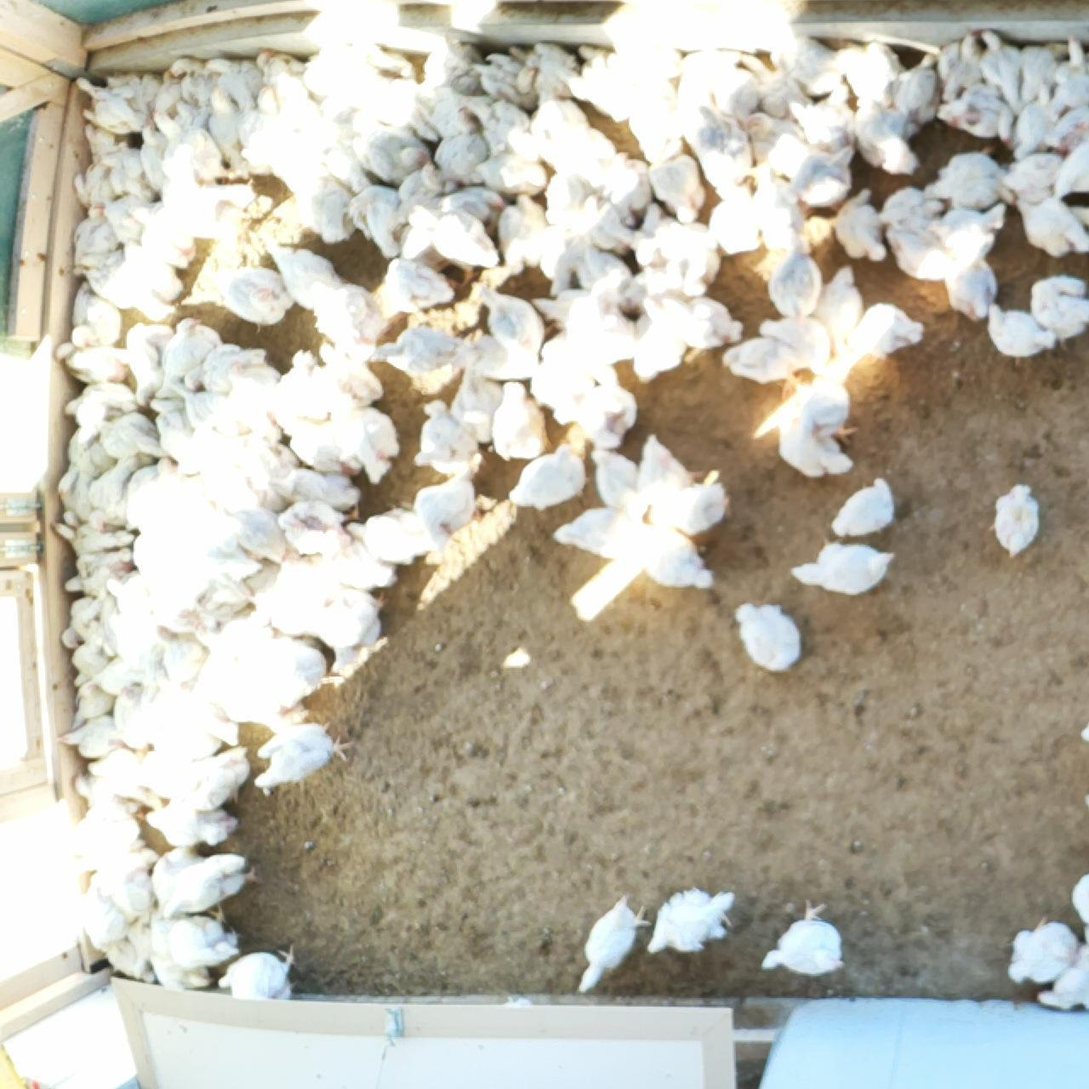chicken: (573, 894, 656, 998), (250, 715, 357, 791), (157, 851, 258, 928), (310, 583, 391, 678), (758, 895, 847, 980), (643, 882, 739, 959), (404, 201, 500, 270), (678, 103, 756, 187), (251, 561, 336, 638), (640, 289, 743, 352), (718, 331, 808, 403), (790, 540, 898, 599), (187, 426, 261, 512), (168, 174, 262, 241), (370, 320, 473, 380), (411, 395, 485, 477), (630, 519, 713, 592), (168, 741, 253, 812), (478, 281, 548, 367), (730, 599, 807, 677), (148, 113, 226, 190), (153, 681, 244, 747), (934, 80, 1021, 149), (848, 93, 919, 177), (311, 526, 399, 593), (739, 101, 810, 184), (230, 641, 322, 705), (300, 40, 413, 92), (207, 499, 300, 562), (646, 132, 707, 228), (342, 505, 437, 566), (219, 943, 296, 1018), (796, 363, 863, 449), (574, 362, 638, 452), (153, 313, 219, 400), (231, 427, 300, 510), (506, 439, 586, 510), (925, 144, 1012, 209), (413, 465, 479, 550), (135, 800, 242, 852), (1006, 192, 1089, 259), (832, 38, 907, 112), (551, 506, 648, 563), (731, 51, 812, 119), (649, 473, 732, 539), (772, 32, 845, 106), (747, 162, 807, 252), (490, 380, 555, 463), (770, 408, 847, 478), (1008, 917, 1081, 990), (147, 911, 242, 967), (290, 168, 358, 246), (622, 77, 680, 168), (572, 244, 645, 316), (71, 802, 144, 874), (289, 96, 353, 178), (211, 262, 293, 326), (461, 92, 539, 159), (847, 299, 928, 363), (374, 255, 455, 319), (66, 116, 124, 205), (539, 311, 638, 363), (87, 401, 170, 463), (190, 614, 280, 671), (753, 313, 835, 375), (981, 301, 1060, 365), (812, 262, 864, 359), (343, 402, 405, 483), (705, 173, 764, 258), (985, 478, 1045, 561), (80, 250, 159, 313), (672, 47, 743, 117), (889, 49, 943, 141), (1023, 276, 1089, 351), (636, 434, 697, 515), (630, 252, 721, 306), (932, 201, 1011, 263), (271, 348, 332, 428), (351, 113, 426, 178), (571, 44, 631, 125), (785, 97, 864, 158), (225, 359, 280, 445), (133, 671, 188, 757), (267, 462, 359, 513), (443, 365, 503, 443), (320, 337, 385, 409), (281, 414, 359, 474), (975, 26, 1030, 111), (90, 456, 147, 538), (310, 281, 389, 340), (467, 49, 542, 111), (831, 472, 898, 541), (116, 234, 185, 301), (128, 204, 197, 271), (192, 649, 252, 726), (764, 243, 823, 321), (1006, 93, 1069, 166), (787, 141, 855, 207), (525, 80, 590, 149), (127, 321, 179, 407), (550, 115, 616, 182), (399, 78, 472, 138), (450, 335, 537, 385), (179, 344, 266, 394), (881, 222, 953, 282), (497, 194, 547, 280), (832, 186, 885, 267), (599, 148, 650, 232), (141, 948, 221, 1001), (145, 392, 203, 465), (75, 73, 142, 136), (60, 423, 117, 497), (278, 499, 353, 555), (346, 186, 405, 257), (438, 106, 486, 193), (1017, 33, 1071, 110), (944, 255, 1000, 329), (136, 121, 186, 203), (517, 40, 579, 106), (316, 68, 390, 123), (244, 87, 289, 177), (65, 544, 137, 600), (698, 54, 765, 114), (1035, 940, 1089, 1014), (537, 215, 584, 300), (589, 448, 645, 519), (173, 379, 236, 442), (65, 280, 121, 350), (102, 144, 163, 208), (89, 924, 150, 988), (66, 376, 145, 425), (580, 181, 630, 258), (999, 146, 1062, 207), (381, 77, 439, 143), (932, 28, 985, 99), (270, 247, 339, 301), (148, 451, 194, 532), (152, 846, 201, 922), (529, 361, 591, 421), (51, 513, 135, 557), (98, 566, 164, 621), (1044, 32, 1089, 112), (272, 123, 322, 194), (205, 89, 244, 180), (151, 563, 205, 628), (394, 162, 442, 234), (152, 619, 205, 684), (93, 839, 158, 892), (75, 880, 127, 945), (875, 185, 944, 233), (418, 34, 475, 92), (207, 58, 265, 115), (527, 285, 593, 335), (70, 200, 115, 273), (108, 677, 153, 750), (604, 40, 688, 79), (101, 607, 159, 663), (187, 566, 251, 616), (59, 592, 109, 655), (633, 319, 680, 386), (1037, 101, 1089, 161), (105, 71, 166, 122), (123, 903, 164, 978), (135, 744, 200, 791), (628, 196, 671, 267), (53, 342, 131, 381), (469, 152, 548, 190), (97, 192, 154, 244), (120, 465, 161, 537), (168, 61, 219, 118), (650, 217, 716, 261), (74, 773, 140, 817), (439, 186, 508, 228), (133, 535, 194, 582), (546, 161, 588, 228), (1050, 141, 1089, 213), (83, 746, 144, 789), (92, 655, 152, 697), (107, 873, 159, 921), (55, 468, 97, 526), (71, 636, 111, 696), (68, 681, 114, 732), (152, 69, 187, 130), (255, 51, 313, 86)
